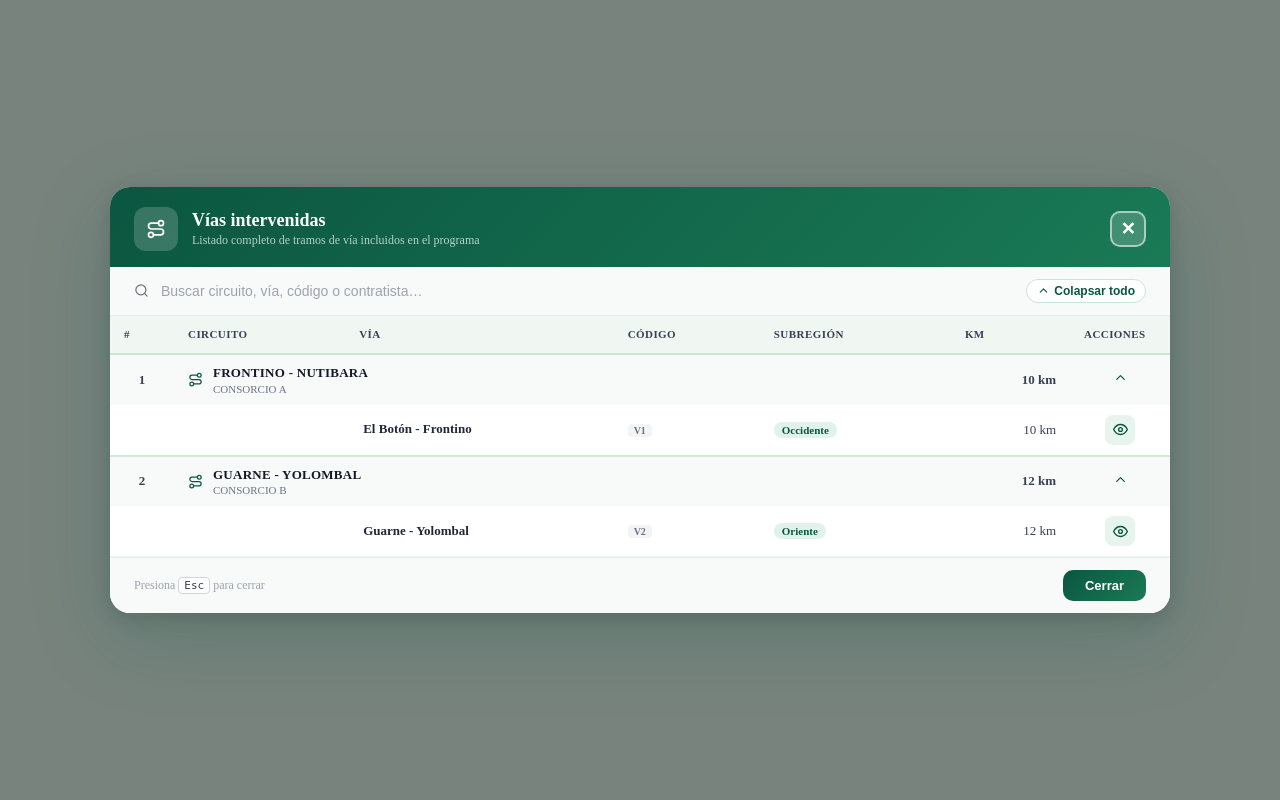
StatsDetailModal — vista "vias" › muestra la fila vacía cuando la búsqueda no matchea nada
The width and height of the screenshot is (1280, 800).
Type "zzz-inexistente" into the field with class "search-input" at (588, 291), box [159, 282, 1016, 300]
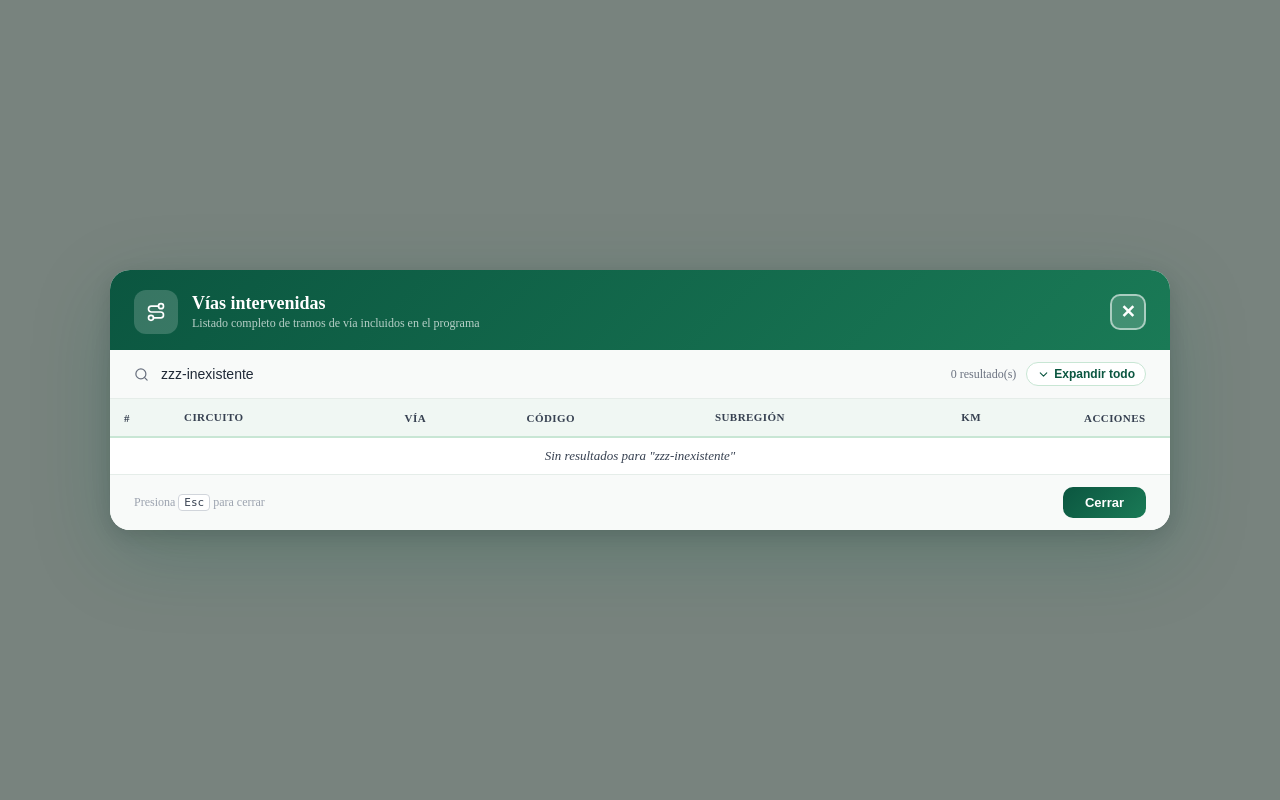
Result: the cell with class "empty-row" is shown at [110, 437, 1170, 474]
